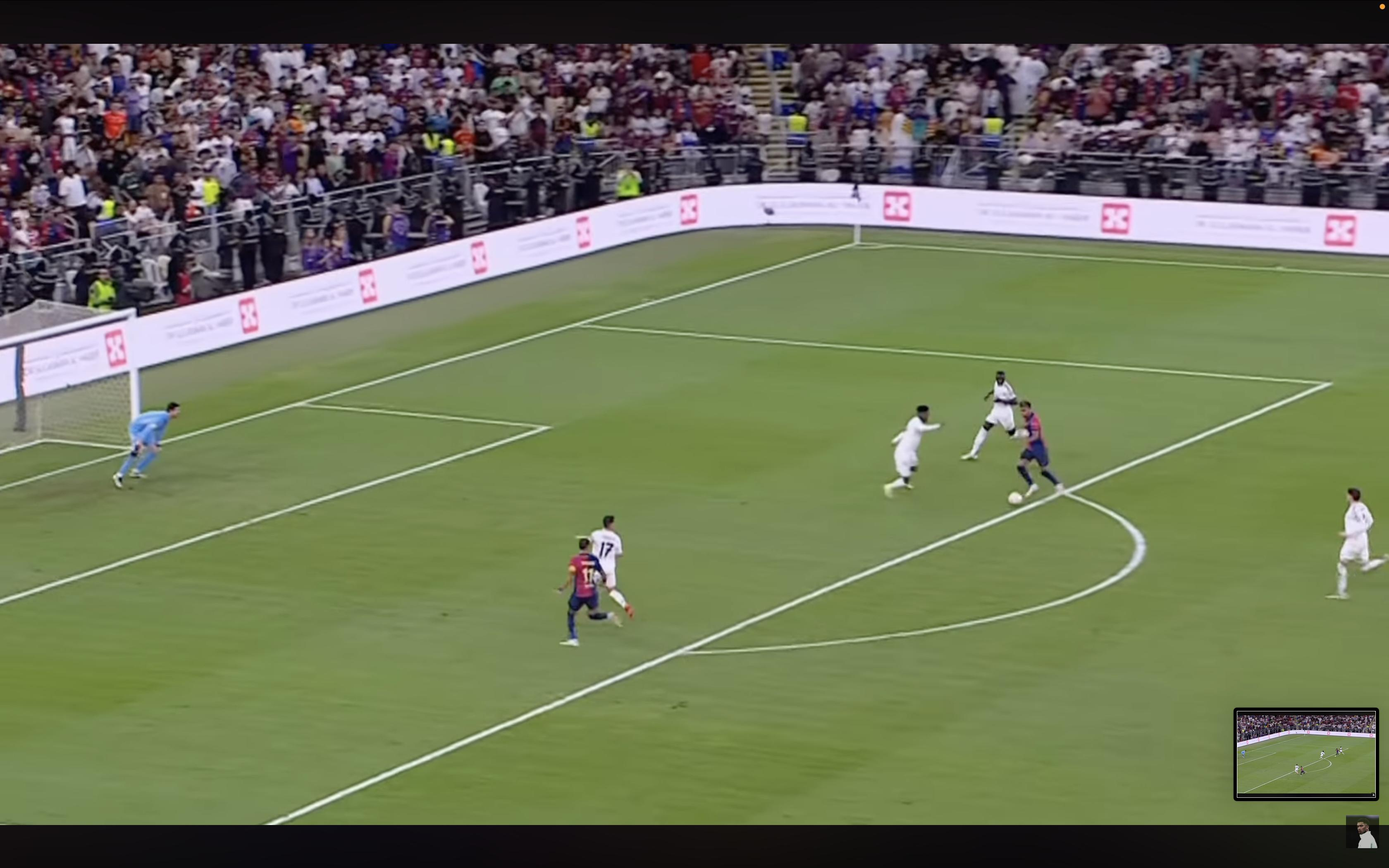ball: (1007, 492, 1024, 506)
goalkeeper: (112, 403, 179, 488)
player: (558, 539, 621, 646), (1328, 488, 1386, 599), (883, 405, 940, 497), (961, 371, 1019, 460), (589, 516, 634, 618), (1017, 401, 1064, 498), (1295, 764, 1305, 774), (1334, 747, 1344, 756)
